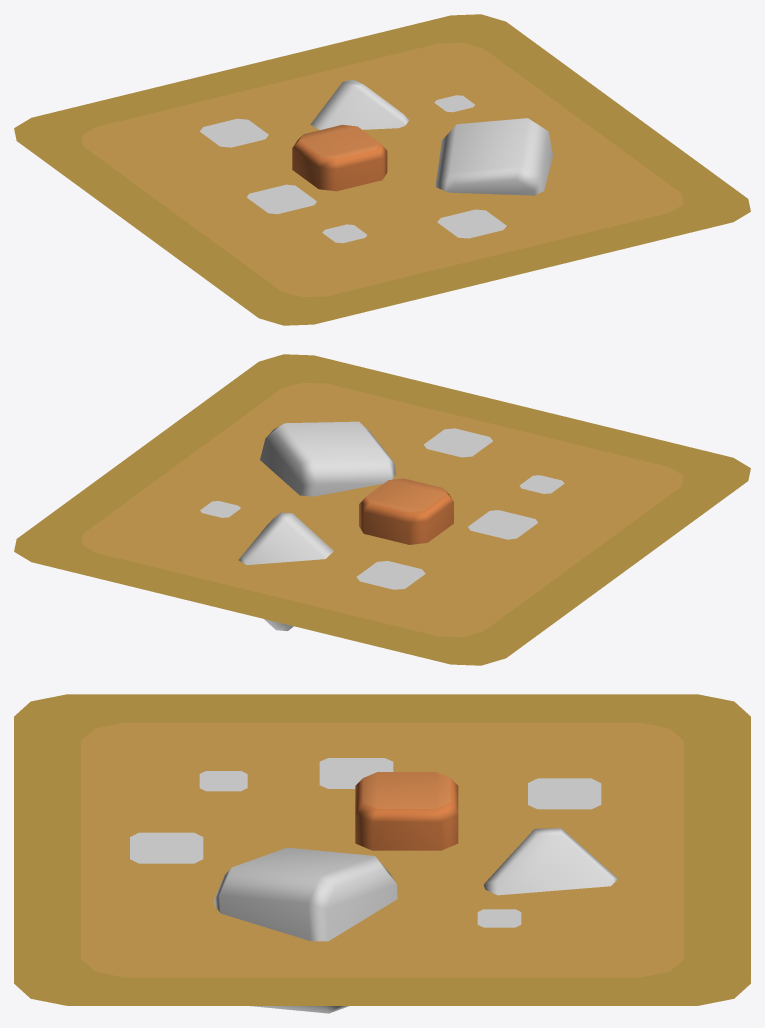
Rendered from BC_cookrecipe_08.fbx.
3 views of the same model, one above another, from view 1: azimuth 30°, elevation 25°; view 2: azimuth 150°, elevation 25°; view 3: azimuth 270°, elevation 25° (orthographic). The views are drawn at different scales.
Visible parts, largest first — view 1: base, cube2, cube1, cube3, boko4, boko2, boko1, boko8; view 2: base, cube2, cube1, cube3, boko4, boko2, boko1, boko8; view 3: base, cube2, cube1, cube3, boko2, boko1, boko4, boko8, boko7.
Boxes of the visible parts, x1,y1,x2,y2 form: base: [14, 14, 750, 325]; cube2: [436, 118, 553, 195]; cube1: [292, 124, 387, 191]; cube3: [310, 79, 409, 129]; boko4: [247, 184, 316, 214]; boko2: [437, 209, 506, 238]; boko1: [200, 118, 268, 147]; boko8: [322, 224, 366, 243]; base: [14, 354, 750, 665]; cube2: [260, 421, 395, 496]; cube1: [359, 478, 453, 544]; cube3: [238, 512, 333, 630]; boko4: [468, 510, 537, 539]; boko2: [423, 428, 492, 457]; boko1: [356, 561, 425, 589]; boko8: [519, 475, 564, 493]; base: [14, 694, 750, 1005]; cube2: [214, 847, 397, 1013]; cube1: [355, 772, 458, 850]; cube3: [483, 828, 617, 895]; boko2: [130, 832, 203, 863]; boko1: [528, 778, 601, 809]; boko4: [319, 758, 393, 788]; boko8: [199, 771, 247, 791]; boko7: [477, 909, 521, 927].
Size of the model in its own units: 3.5 by 0.8223 by 3.5.
